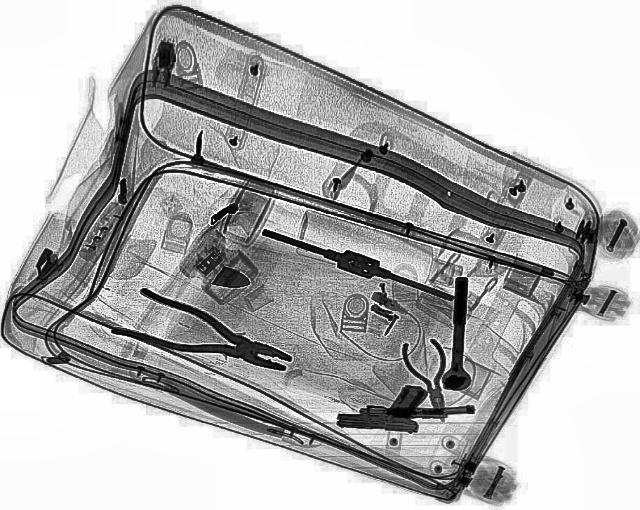Gun: (334, 379, 426, 435)
Pliers: (110, 284, 302, 390), (397, 336, 465, 426)
